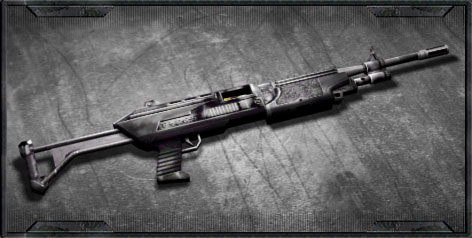rifle: (16, 37, 452, 203)
